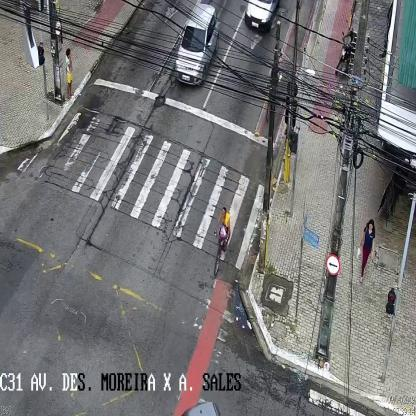car: (174, 3, 218, 88), (244, 1, 281, 33)
motorbike: (213, 206, 230, 276), (336, 29, 358, 76)
person: (359, 219, 375, 284), (64, 47, 74, 99)
